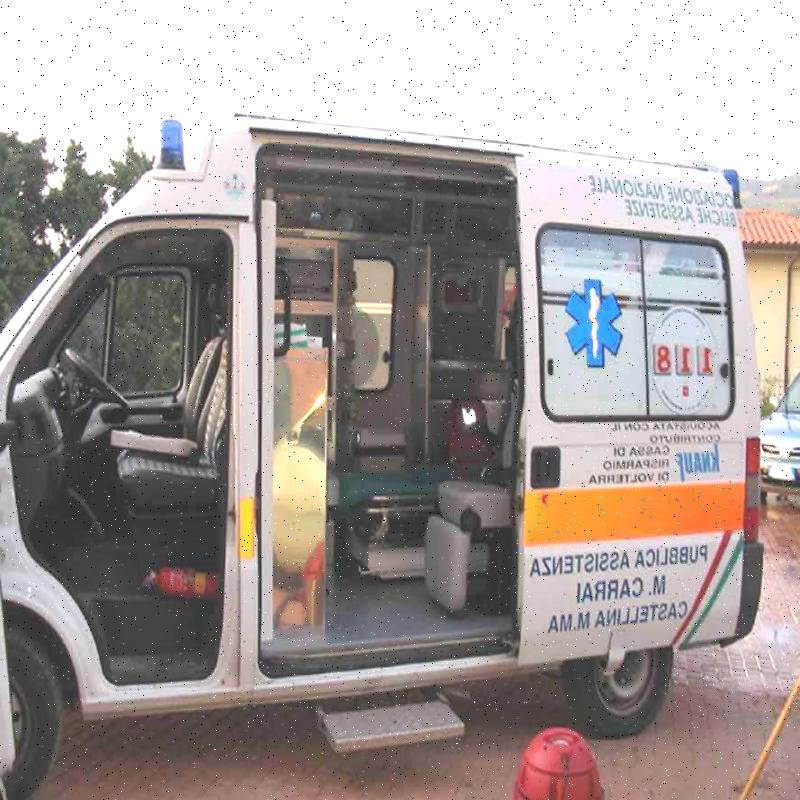AmbulanceSiren: (142, 99, 206, 176)
